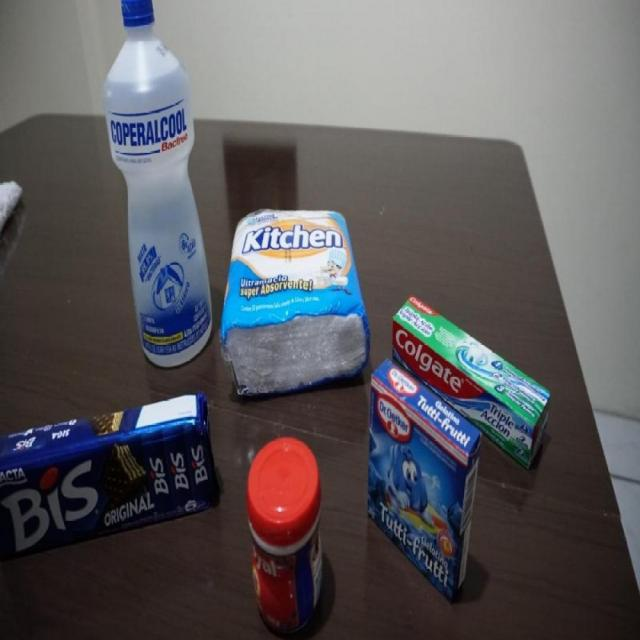AlcoholBottle: (102, 0, 213, 366)
Gelatine: (370, 361, 471, 598)
Napkin: (225, 207, 371, 393)
Toothpaste: (472, 333, 554, 484)
Yeast: (245, 436, 329, 630)
